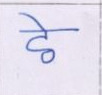e_matra: (20, 13, 48, 30)
